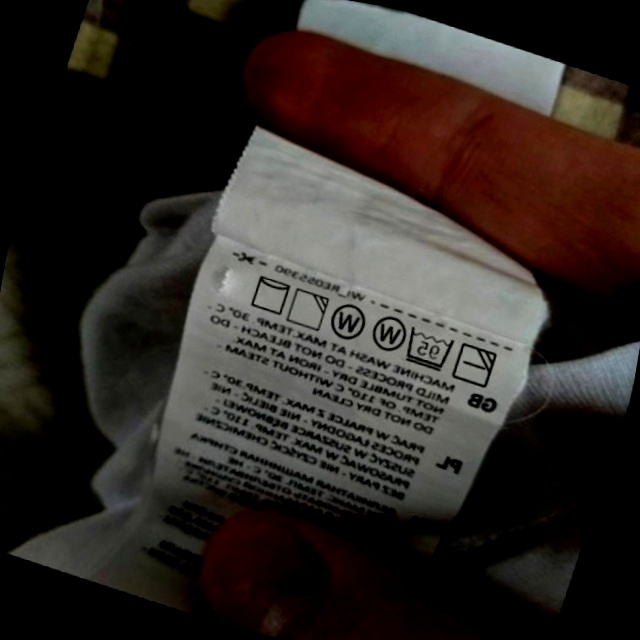95C: (398, 322, 459, 375)
dry_flat_in_shade: (449, 338, 502, 392)
line_dry: (244, 269, 296, 319)
shade_dry: (282, 283, 333, 335)
wet_clean: (323, 297, 372, 348), (364, 306, 412, 358)
